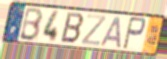4: (41, 9, 61, 44)
A: (99, 15, 123, 49)
B: (18, 7, 44, 42), (59, 12, 85, 46)
P: (121, 15, 147, 51)
Z: (80, 14, 108, 47)
